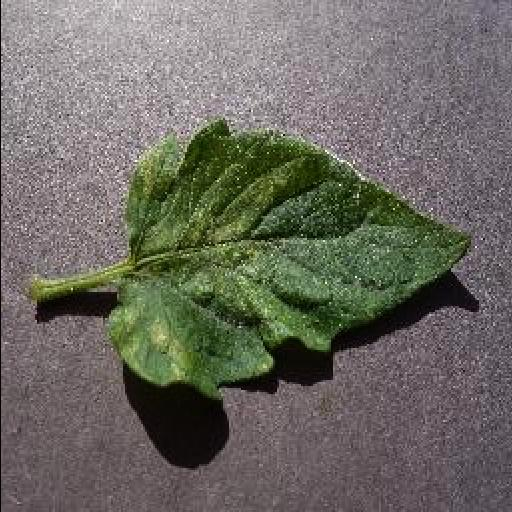disease_tomato: (110, 119, 474, 399)
